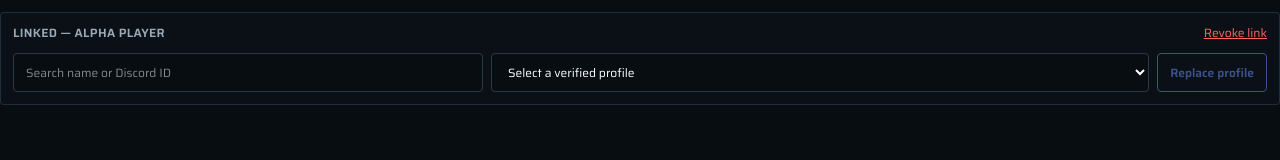
Test case: PlayerIdentityAdmin › keeps the current link when a conflicting replacement is rejected
Select "Bravo Player — 222222" in the dropdown named "verified discord profile" at (820, 72), box left=491, top=53, right=1149, bottom=92
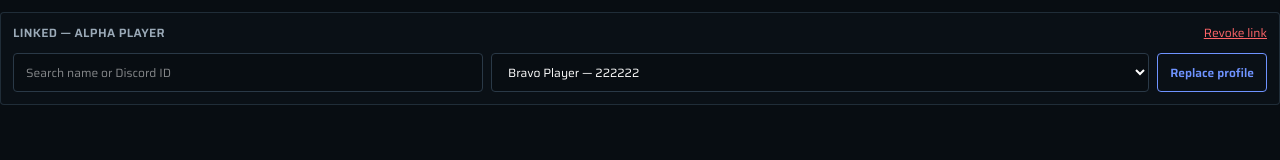
Click the button "Replace profile" at (1212, 72), box left=1157, top=53, right=1267, bottom=92
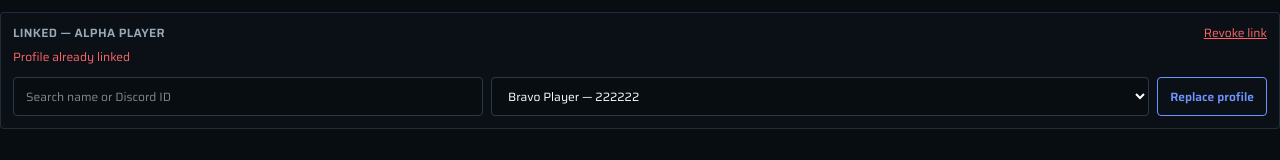
Check: the text "Linked — Alpha Player" is shown, box left=13, top=25, right=165, bottom=41
Check: the text "Profile already linked" is shown, box left=13, top=47, right=130, bottom=66
